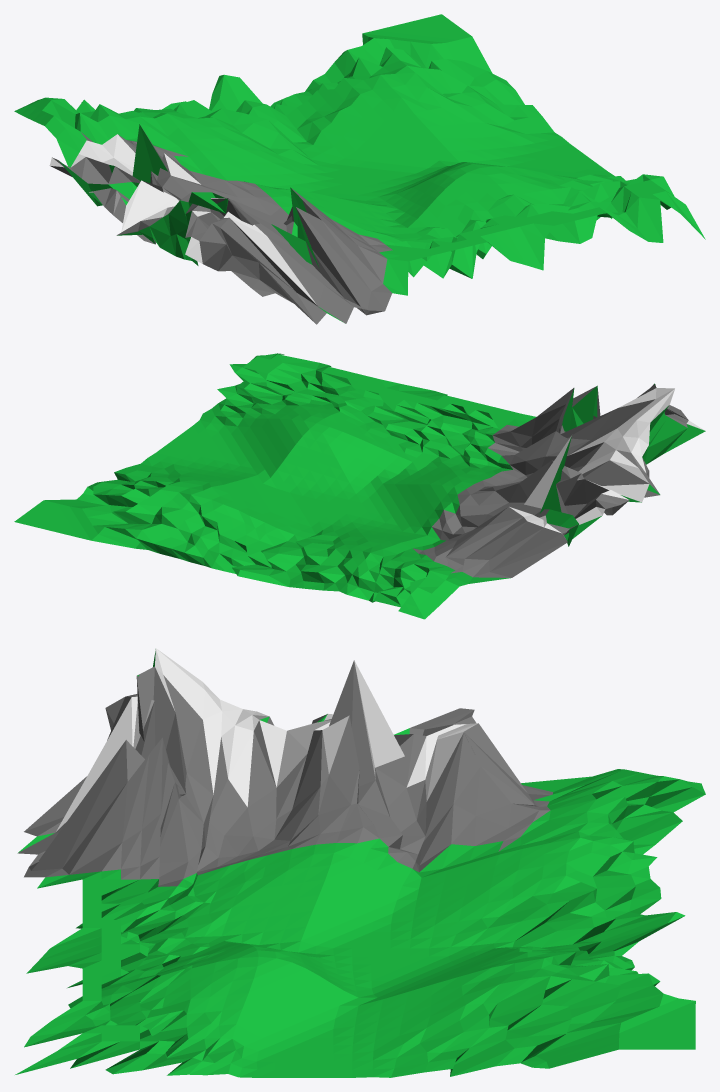
The model's file is Terrain1.fbx.
The picture shows the model from 3 angles, top to bottom: view 1: azimuth 30°, elevation 25°; view 2: azimuth 150°, elevation 25°; view 3: azimuth 270°, elevation 25°; orthographic projection. The views are drawn at different scales.
Visible parts, largest first — view 1: Plane; view 2: Plane; view 3: Plane.
Part boxes in pixels (left/top/right/bottom): Plane: left=14, top=14, right=705, bottom=324; Plane: left=14, top=353, right=705, bottom=619; Plane: left=15, top=648, right=705, bottom=1077.
Size of the model in its own units: 1865 by 446 by 1800.
